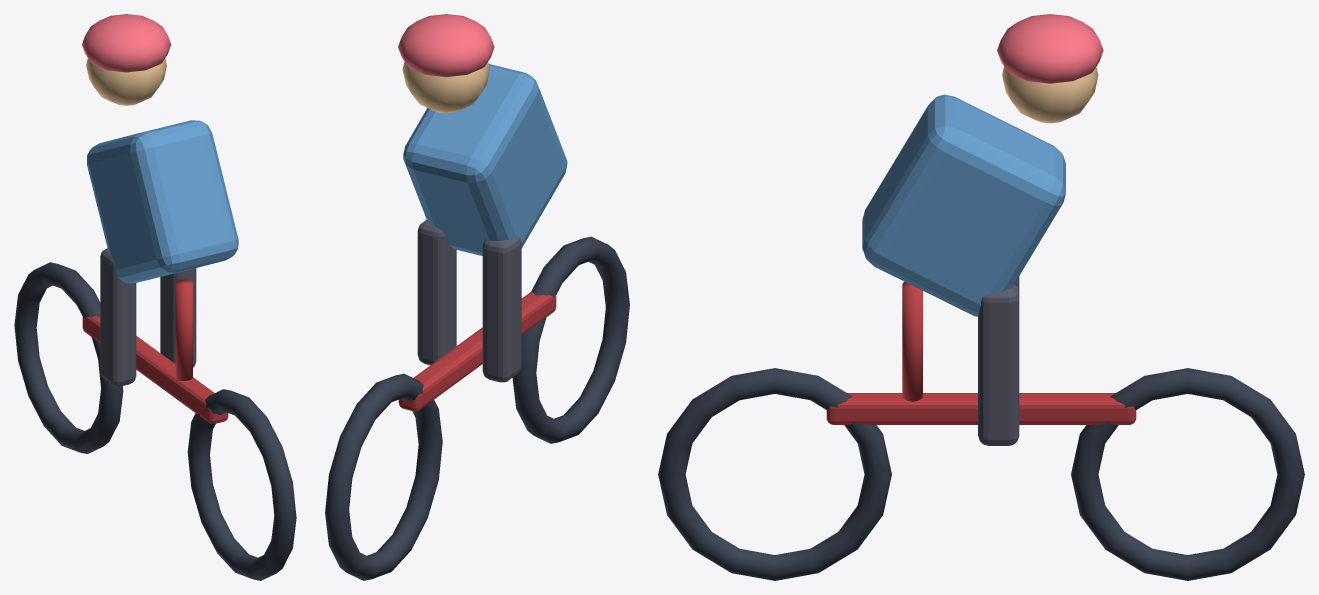
Rendered from cyclist.glb.
The picture shows the model from 3 angles, left to right: view 1: azimuth 30°, elevation 25°; view 2: azimuth 150°, elevation 25°; view 3: azimuth 270°, elevation 25°; orthographic projection. The views are drawn at different scales.
Visible parts, largest first — view 1: cyclist_body, cyclist_wheel_b, cyclist_wheel_f, cyclist_leg_r, cyclist_helmet, cyclist, cyclist_head, cyclist_leg_l, cyclist_post; view 2: cyclist_body, cyclist_wheel_f, cyclist_wheel_b, cyclist_leg_r, cyclist_leg_l, cyclist_helmet, cyclist, cyclist_head; view 3: cyclist_body, cyclist_wheel_b, cyclist_wheel_f, cyclist, cyclist_leg_l, cyclist_helmet, cyclist_head, cyclist_post.
Part boxes in pixels (x1,y1,x2,y2): cyclist_body: [87, 120, 238, 283]; cyclist_wheel_b: [187, 389, 296, 580]; cyclist_wheel_f: [14, 262, 123, 453]; cyclist_leg_r: [100, 248, 136, 386]; cyclist_helmet: [82, 14, 171, 72]; cyclist: [82, 316, 228, 423]; cyclist_head: [86, 58, 166, 105]; cyclist_leg_l: [160, 268, 196, 367]; cyclist_post: [175, 279, 192, 380]; cyclist_body: [403, 64, 567, 255]; cyclist_wheel_f: [325, 373, 442, 580]; cyclist_wheel_b: [512, 236, 629, 443]; cyclist_leg_r: [482, 237, 521, 382]; cyclist_leg_l: [417, 220, 456, 365]; cyclist_helmet: [398, 14, 494, 77]; cyclist: [398, 292, 556, 411]; cyclist_head: [402, 62, 489, 113]; cyclist_body: [862, 94, 1065, 316]; cyclist_wheel_b: [658, 368, 891, 580]; cyclist_wheel_f: [1071, 368, 1304, 580]; cyclist: [826, 393, 1136, 424]; cyclist_leg_l: [978, 284, 1019, 445]; cyclist_helmet: [997, 14, 1103, 83]; cyclist_head: [1002, 66, 1098, 123]; cyclist_post: [902, 281, 922, 401].
Size of the model in its own units: 0.34 by 1.79 by 1.88.
